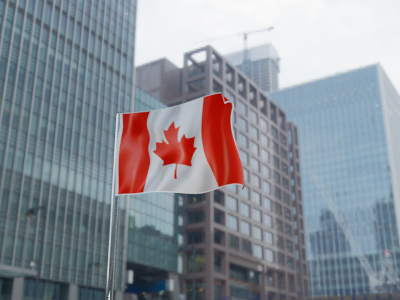Canada flag: (114, 92, 245, 195)
